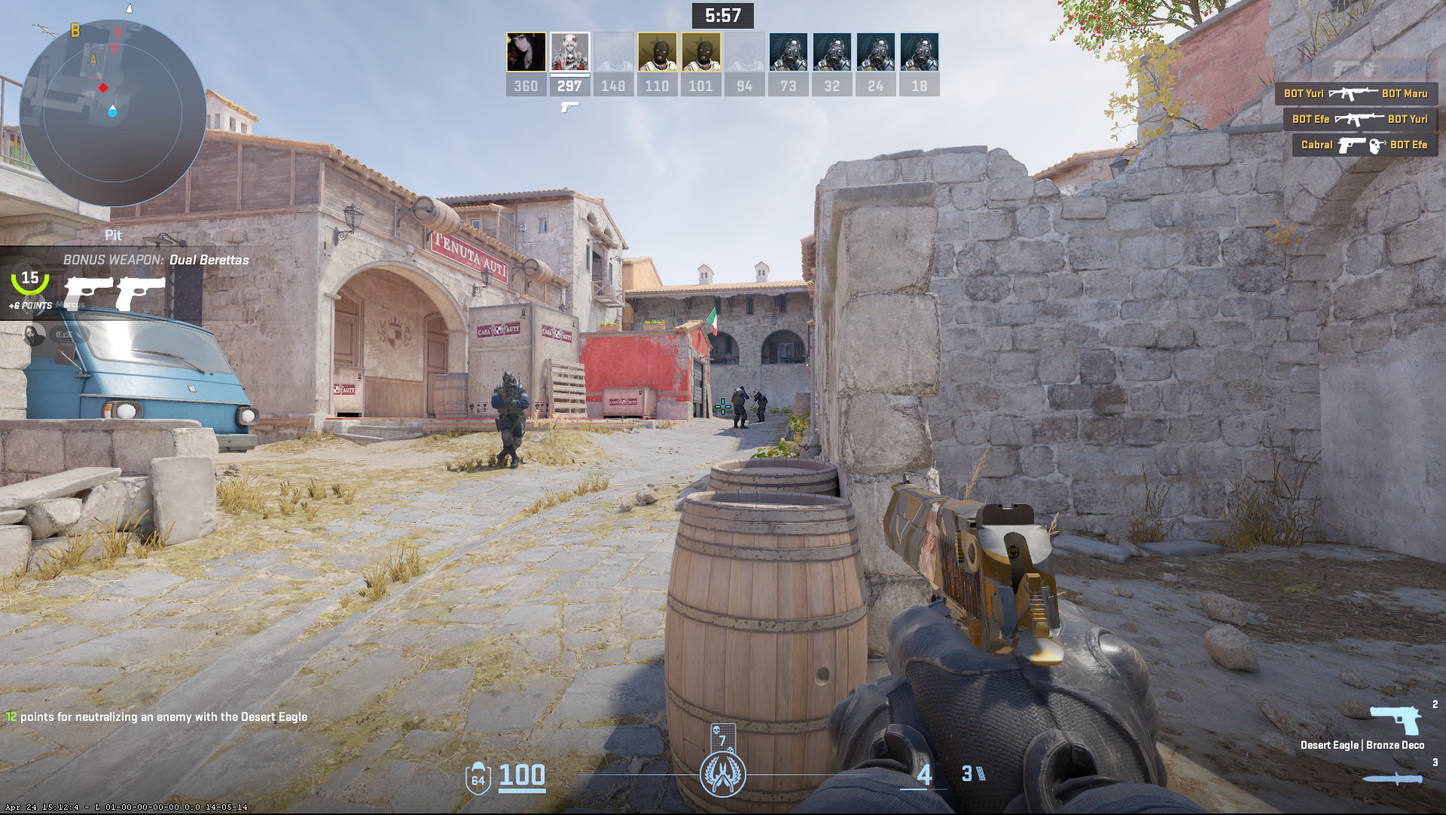CT: (491, 371, 529, 469), (731, 385, 749, 429), (753, 391, 767, 423)
